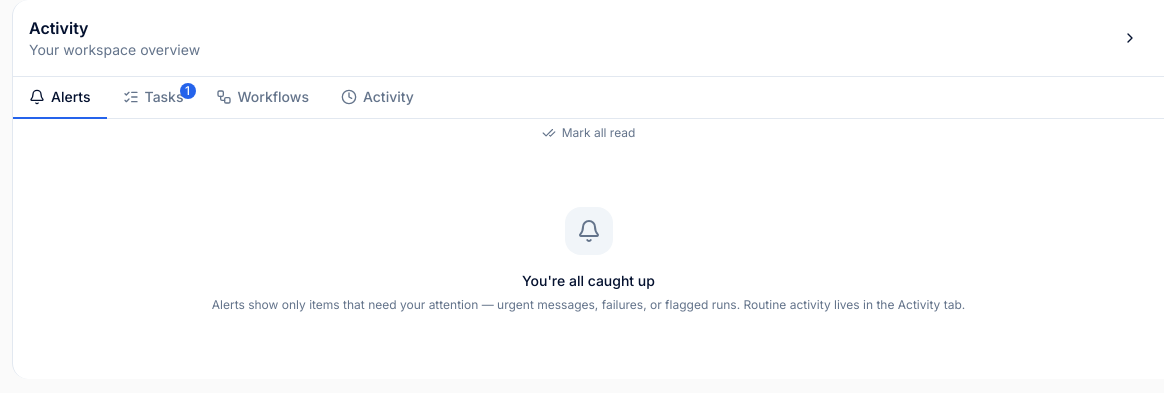
Test: ContextPanel › removes markdown and table marker characters from activity cards
The image size is (1164, 393).
What coordinates should you click on to do the following:
click the button "Tasks 1"
I would click on:
 (153, 98)
Its box is [106, 77, 200, 119].
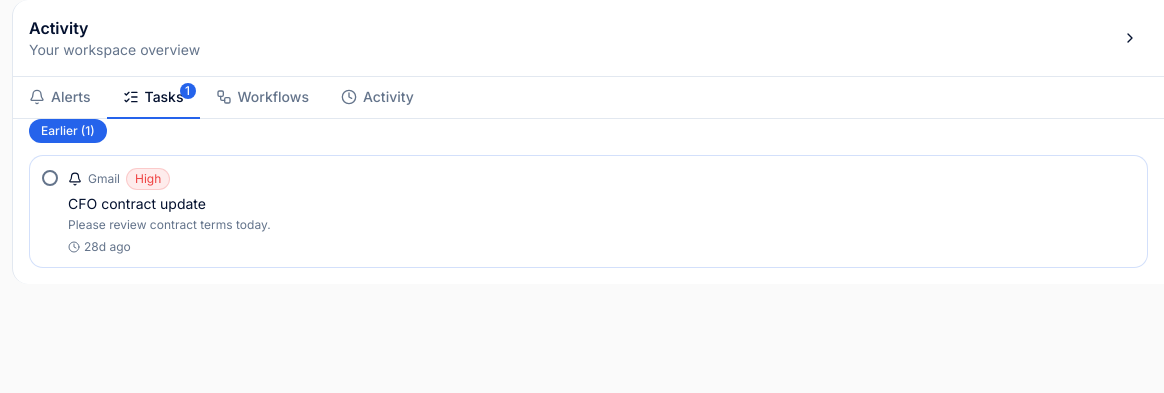
Expected: the text "CFO contract update" is shown, [68, 195, 206, 212]
Expected: the text "Please review contract terms today." is shown, [68, 217, 271, 232]
